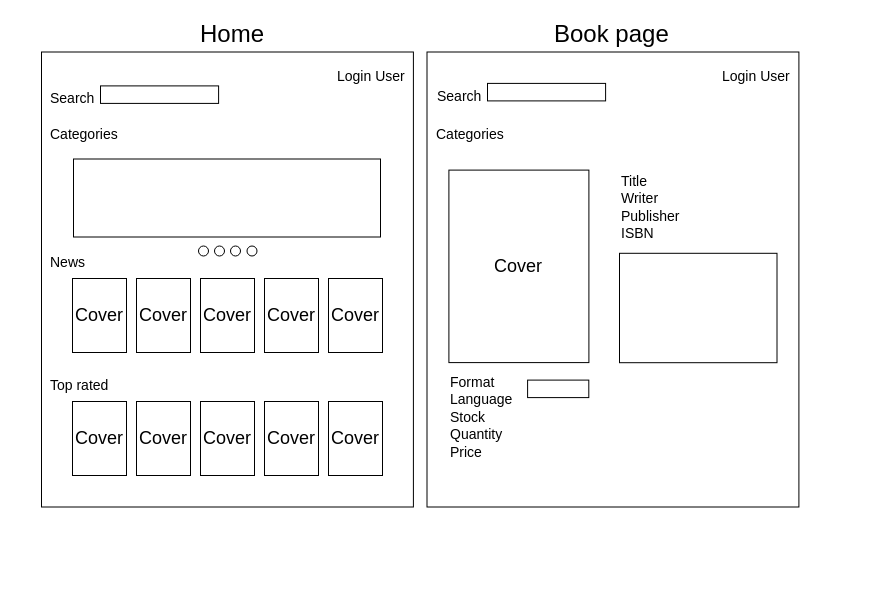
The diagram is 884 pixels wide and 594 high, and some of its shapes have lost their labels. The shapes that lost their labels are listed below. From the top down, each one's box as (x1, y1, x2, y2) in pixels, then its label:
(72, 158, 380, 237): Banner
(618, 252, 777, 363): Description
(527, 379, 589, 398): Buy
